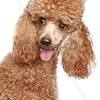Bulldog: (1, 2, 98, 98)
